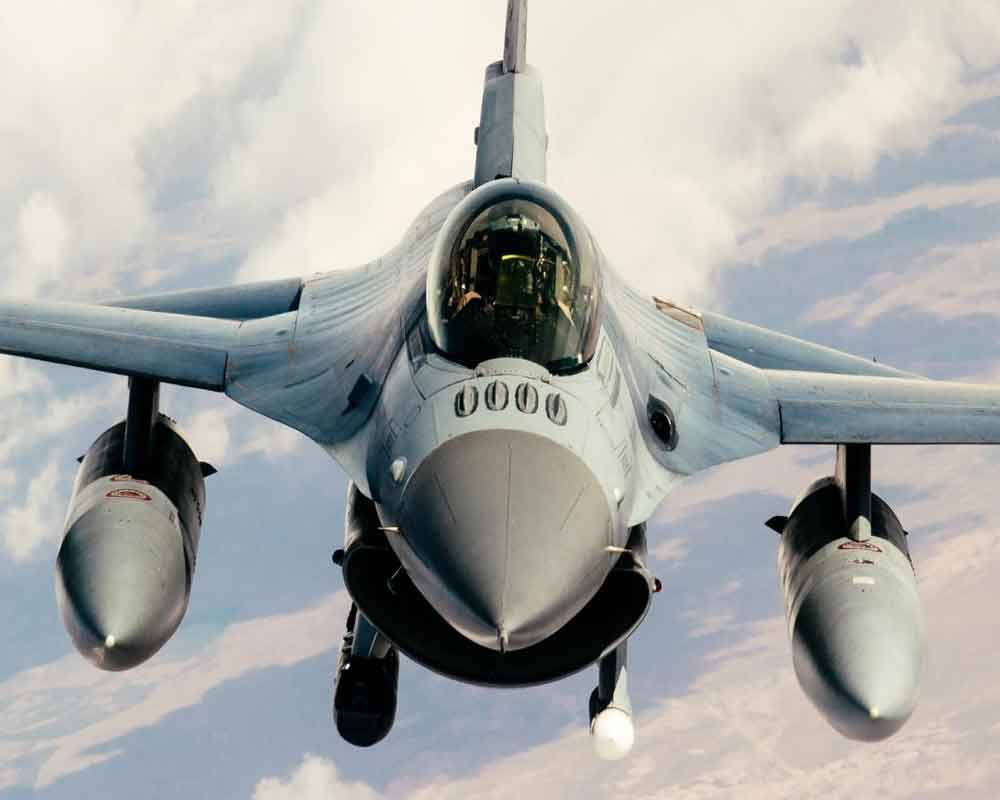aeroplane: (7, 3, 989, 756)
